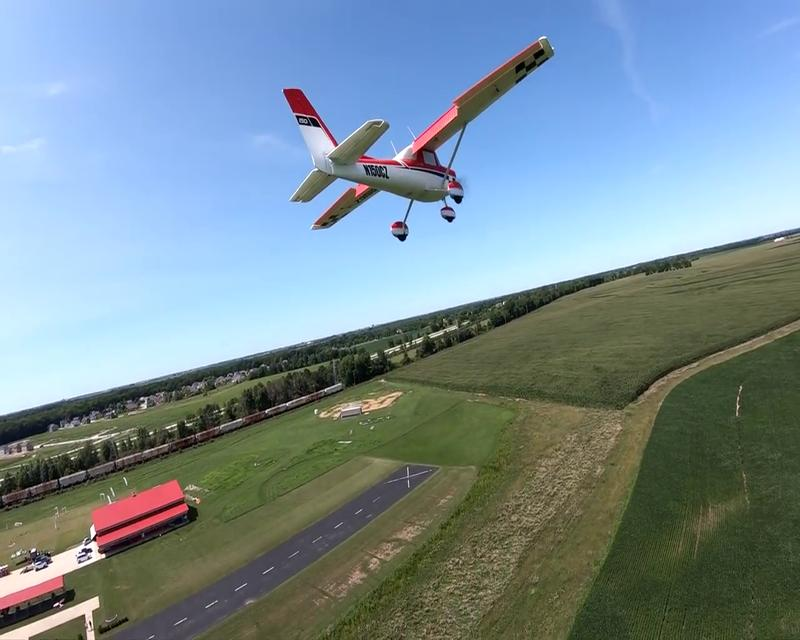UAV: (281, 34, 555, 242)
